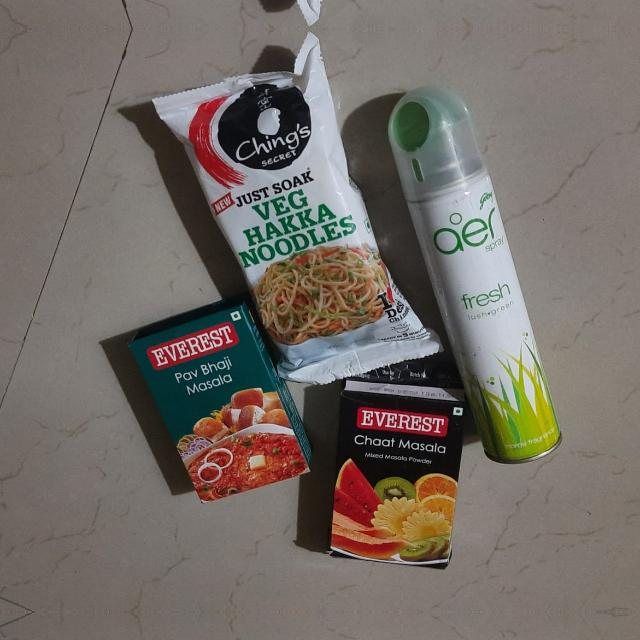Chings Secret Veg Hakka Noodles 140 g Pouch: (144, 32, 428, 368)
Everest Chaat Masala 50 g: (318, 362, 472, 582)
Everest Pav Bhaji Masala 100 g: (110, 295, 310, 511)
Godrej Aer Lush Green Fresh Home Fragrance Spray 220 ml: (392, 69, 590, 471)
